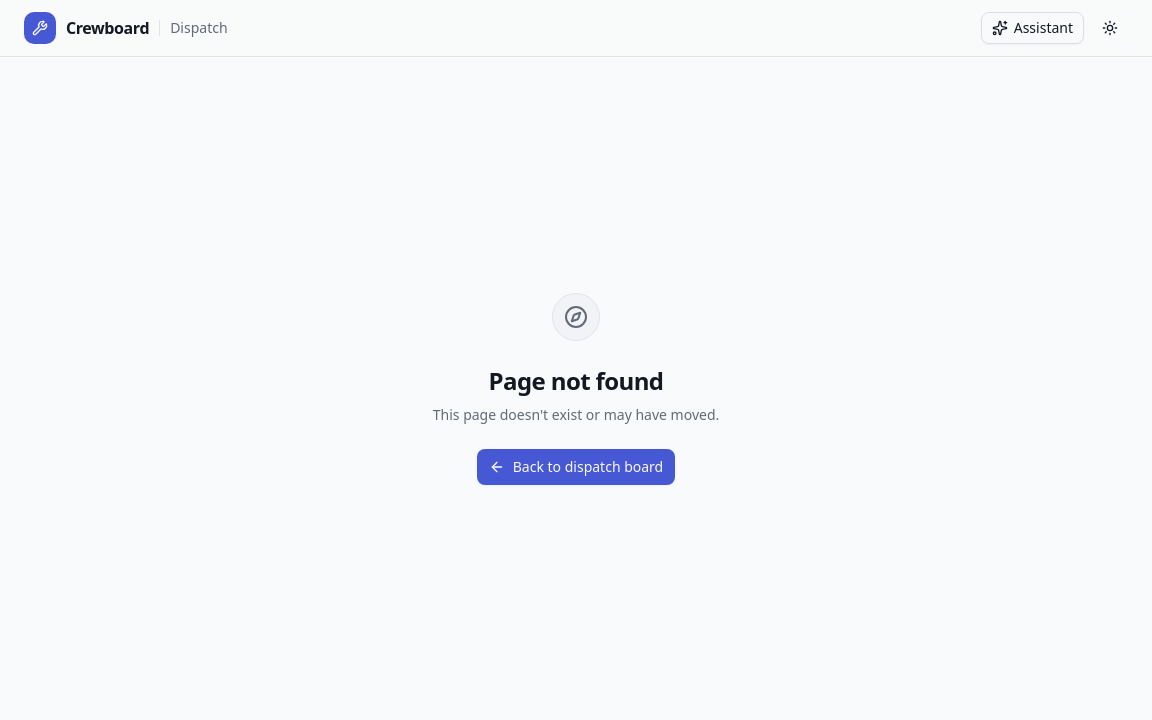
Test: App › returns to the board from the header brand
Click the link with aria-label "Crewboard home" at (87, 28), box [20,8,153,48]
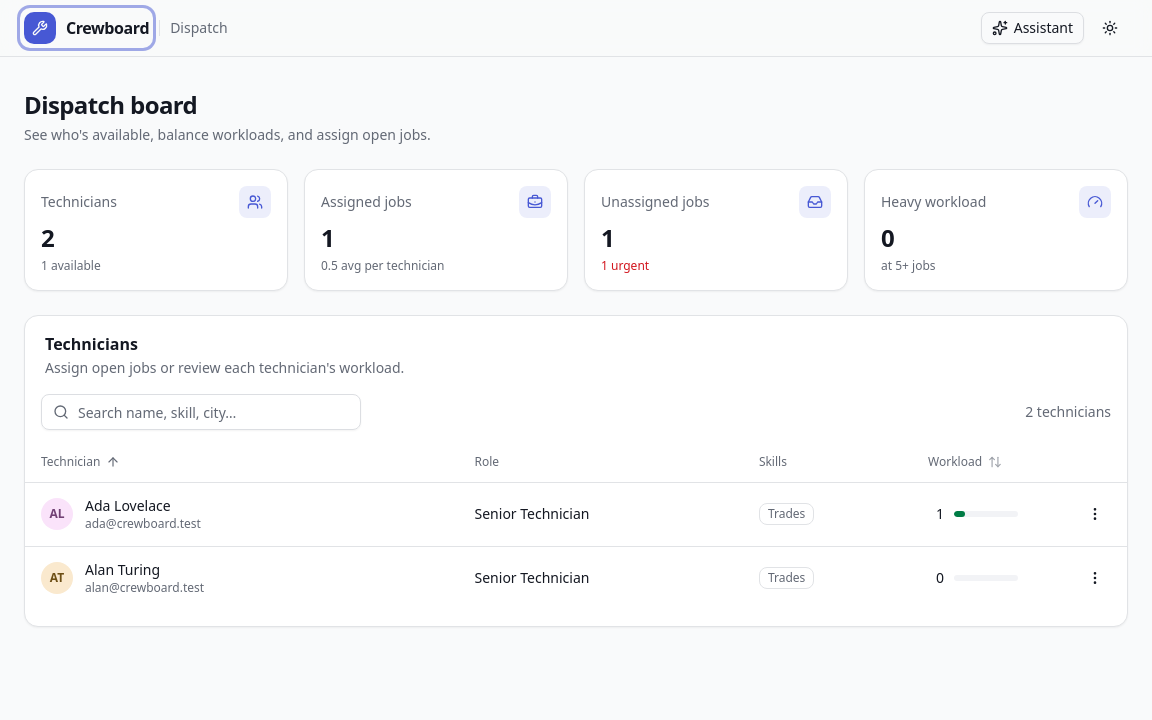
Now the heading "Page not found" is gone
Now the table named "Technicians" is shown, box [25,442,1127,610]
